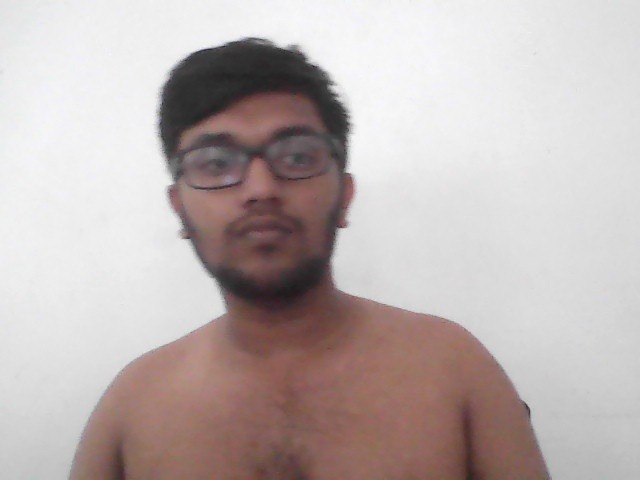upper level: (154, 37, 358, 303)
